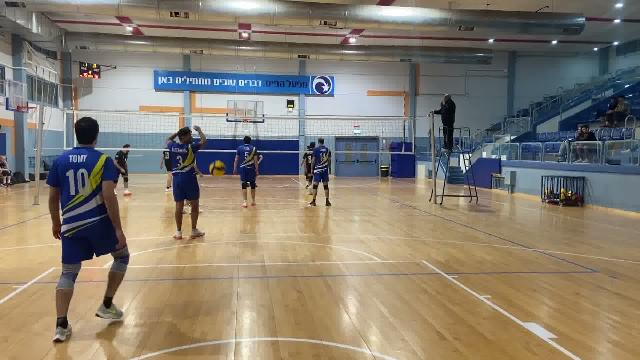ball: (205, 155, 226, 181)
